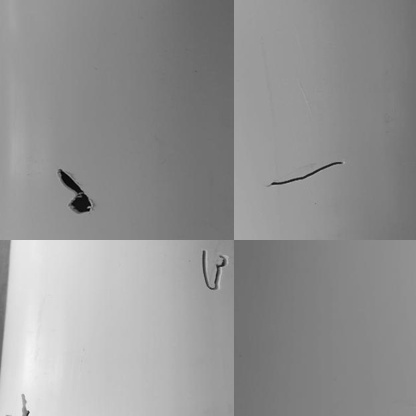fengxi: (267, 152, 344, 187), (194, 249, 229, 294)
kongdong: (52, 161, 99, 218)
sunshang: (17, 390, 34, 415)
